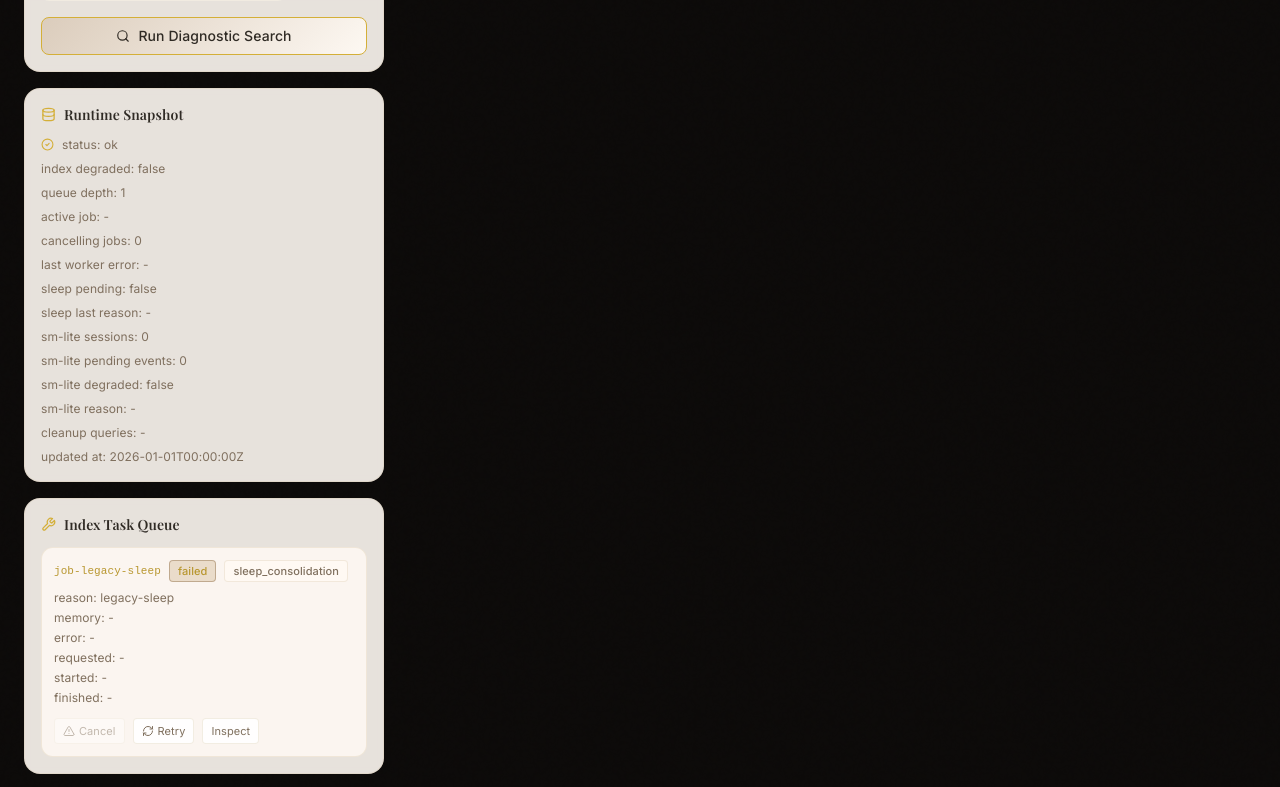
ObservabilityPage › falls back to legacy sleep consolidation endpoint when retry endpoint returns 405
(page scrolled)
Expected: the text "job-legacy-sleep" is shown, [54,564,161,576]
What coordinates should you click on to do the following:
click the button "Retry"
I would click on:
 (164, 730)
Its box is [133,718,194,744].
(page scrolled)
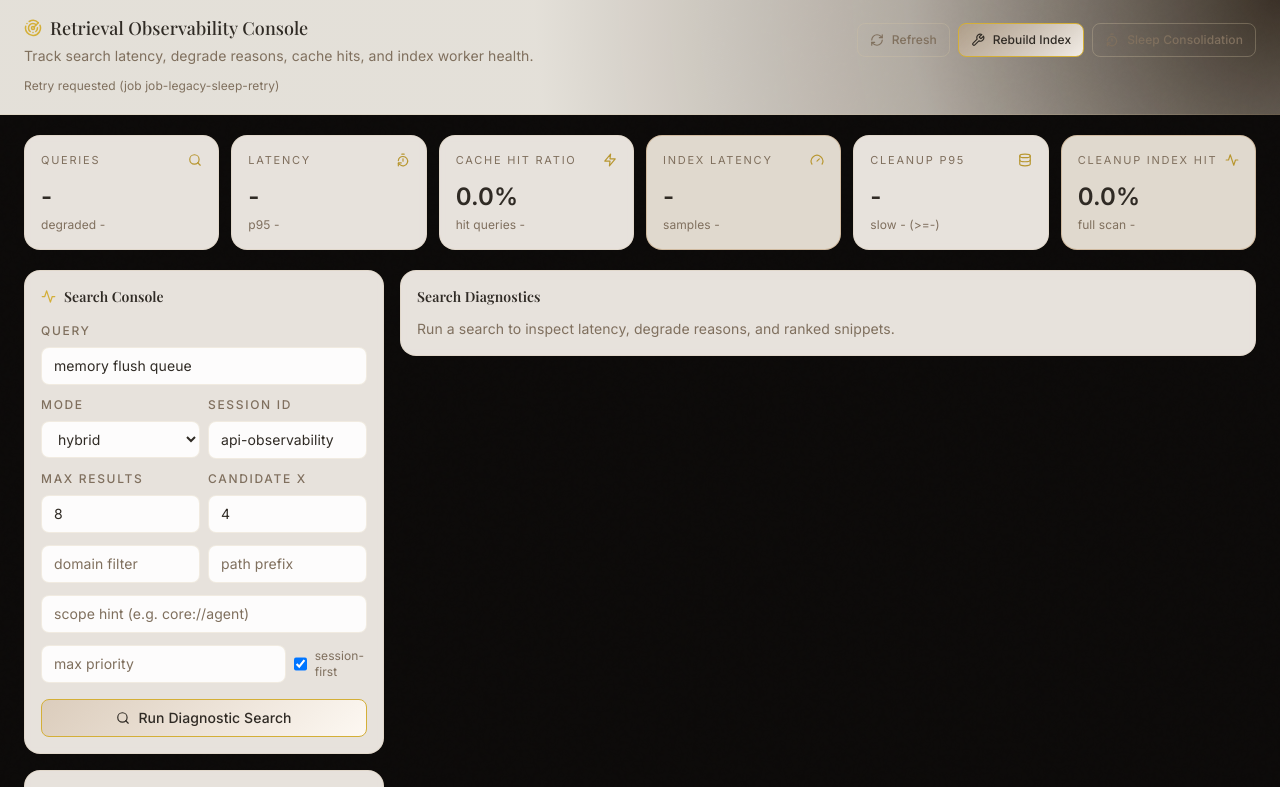
Now the text "Retry requested (job job-legacy-sleep-retry)" is shown, box [24,78,280,93]
